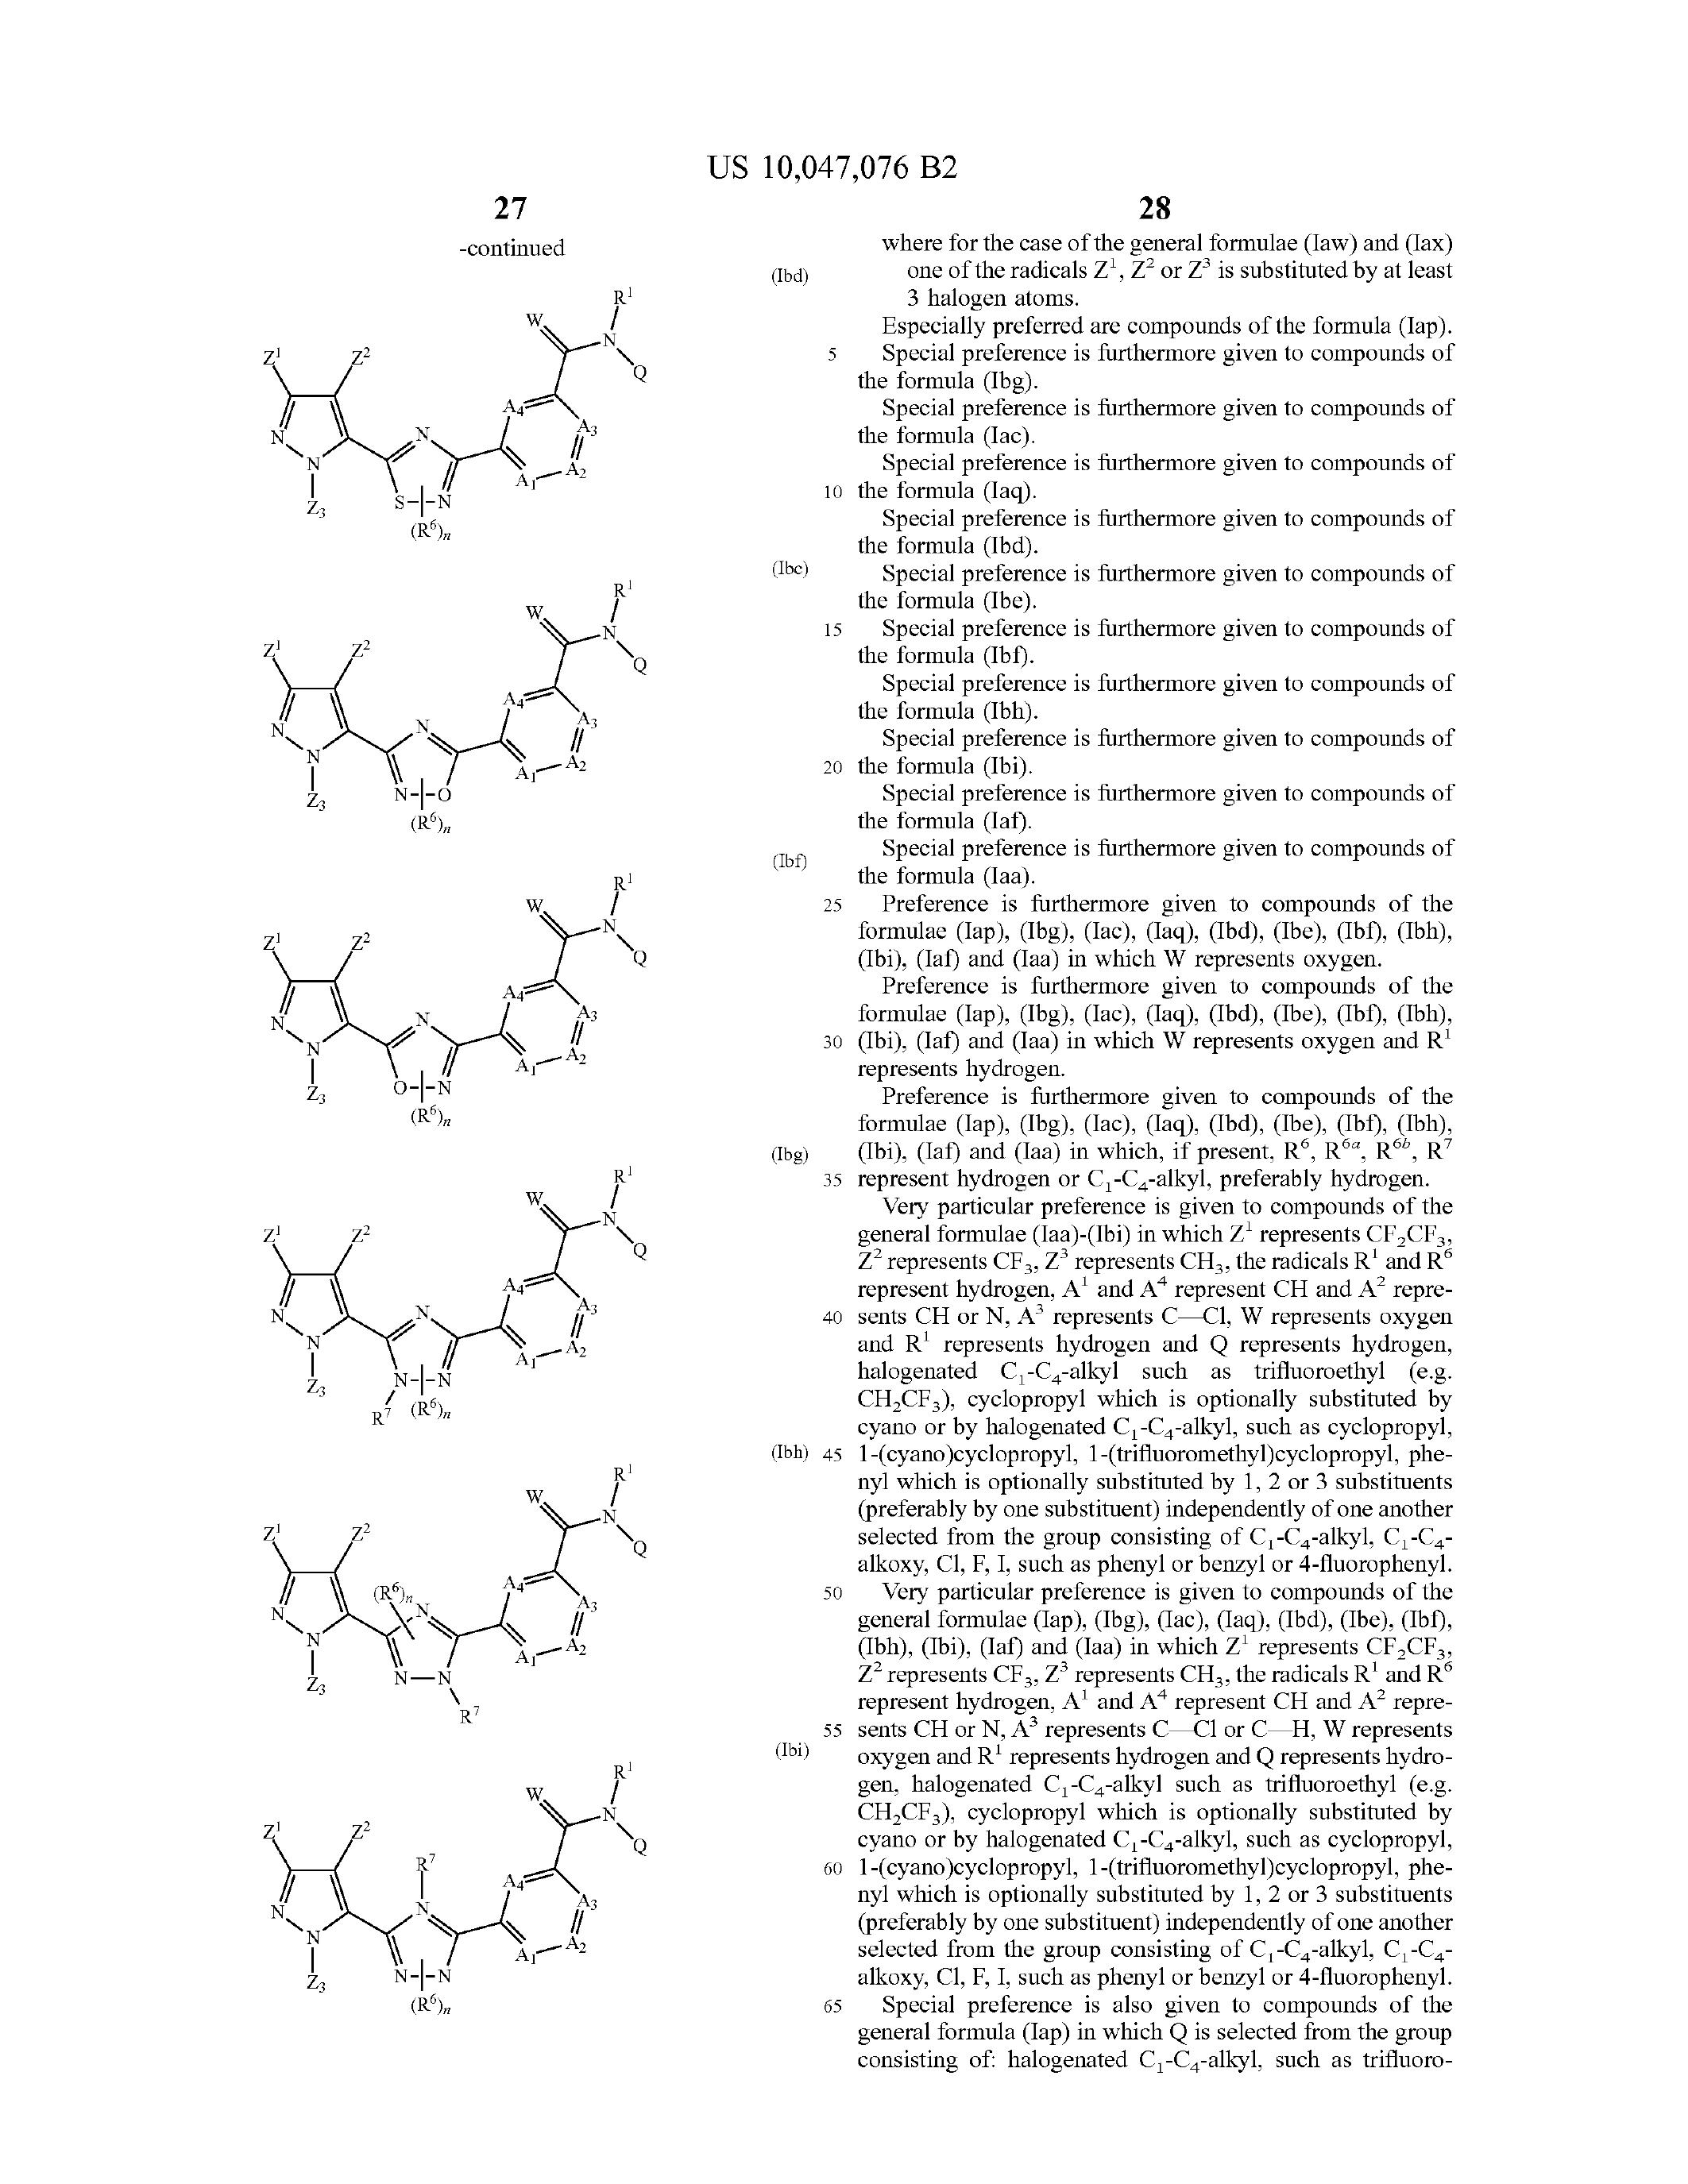relevant-structures: (225, 1748, 741, 2085), (202, 275, 695, 562), (225, 1145, 692, 1431), (206, 571, 681, 842), (218, 867, 713, 1122), (238, 1466, 679, 1711)
